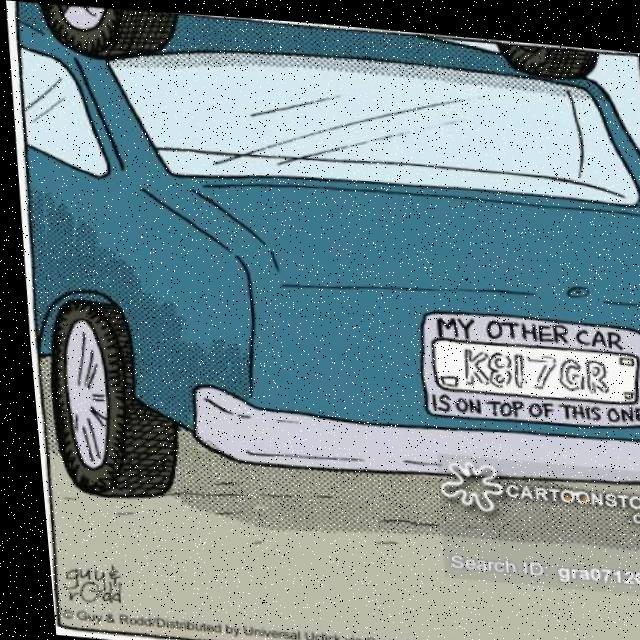license_plate: (426, 330, 618, 391)
